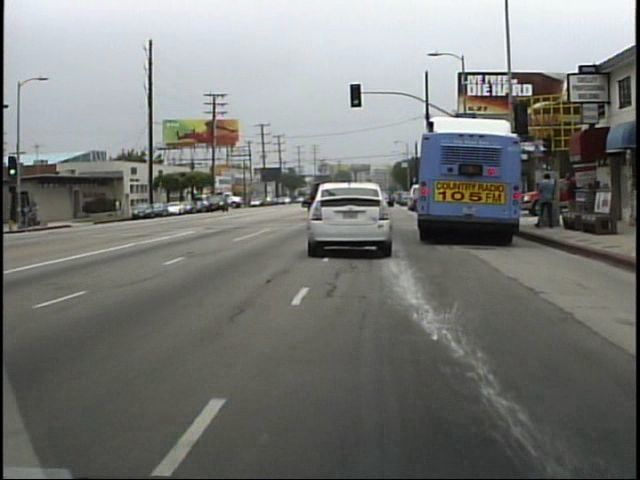person: (531, 169, 556, 233), (111, 195, 123, 218)
